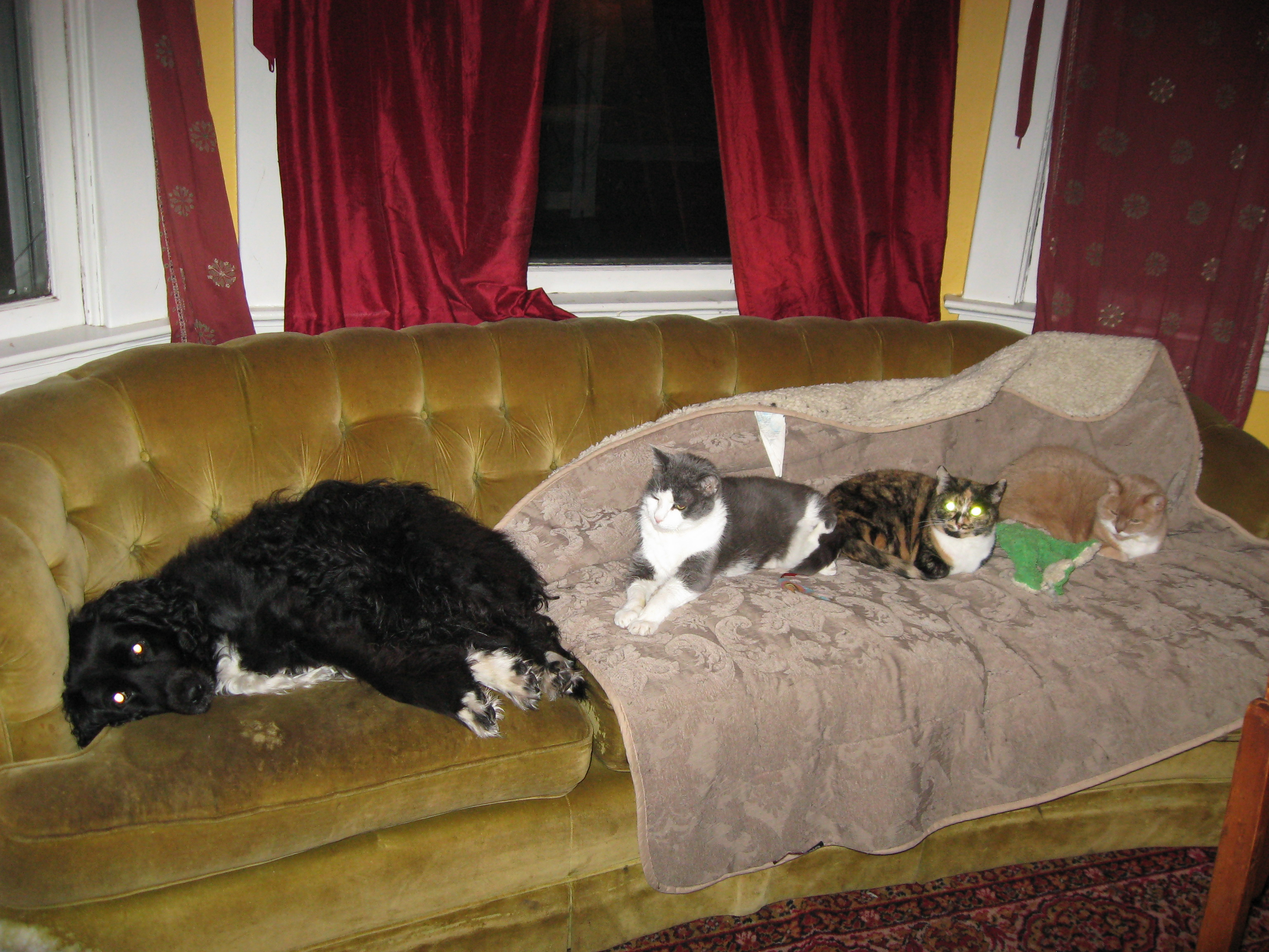cat: (615, 448, 838, 639), (990, 443, 1167, 561), (830, 468, 1010, 581)
